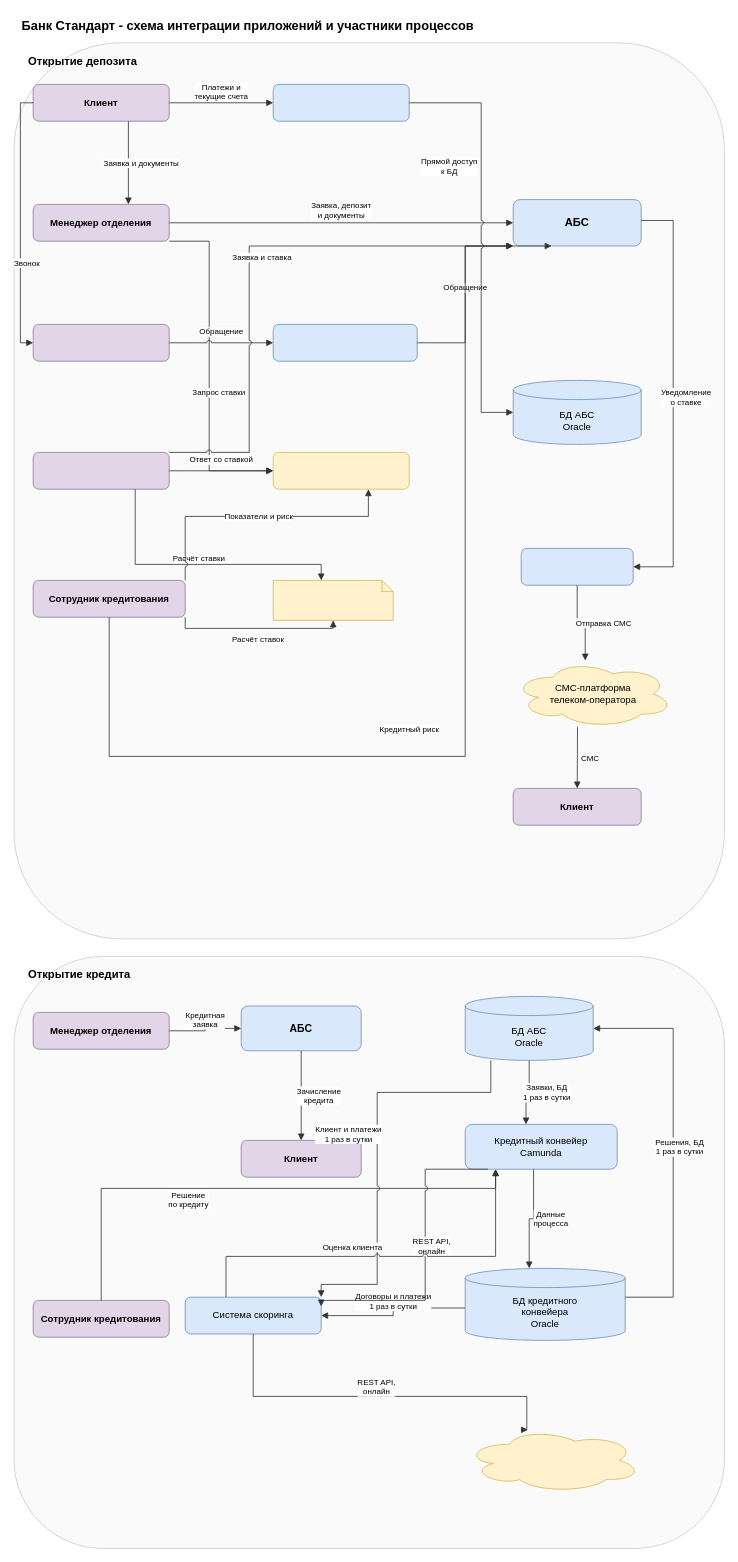
This 738x1562 diagram has some shape labels left out. Here are the shapes that lost their labels. From the top down, the box of each, then its label:
(272, 84, 409, 121): Интернет-банк
(32, 324, 169, 361): Оператор кол-центра
(272, 324, 417, 361): Система кол-центра
(32, 452, 169, 489): Менеджер депозитов
(272, 452, 409, 489): Электронная почта
(520, 548, 633, 585): СМС-шлюз
(272, 580, 393, 620): Excel-файлы
(464, 1428, 641, 1492): Бюро кредитных историй
